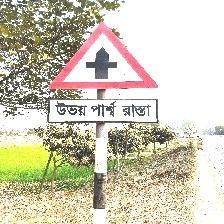Crossroad: (48, 21, 161, 127)
